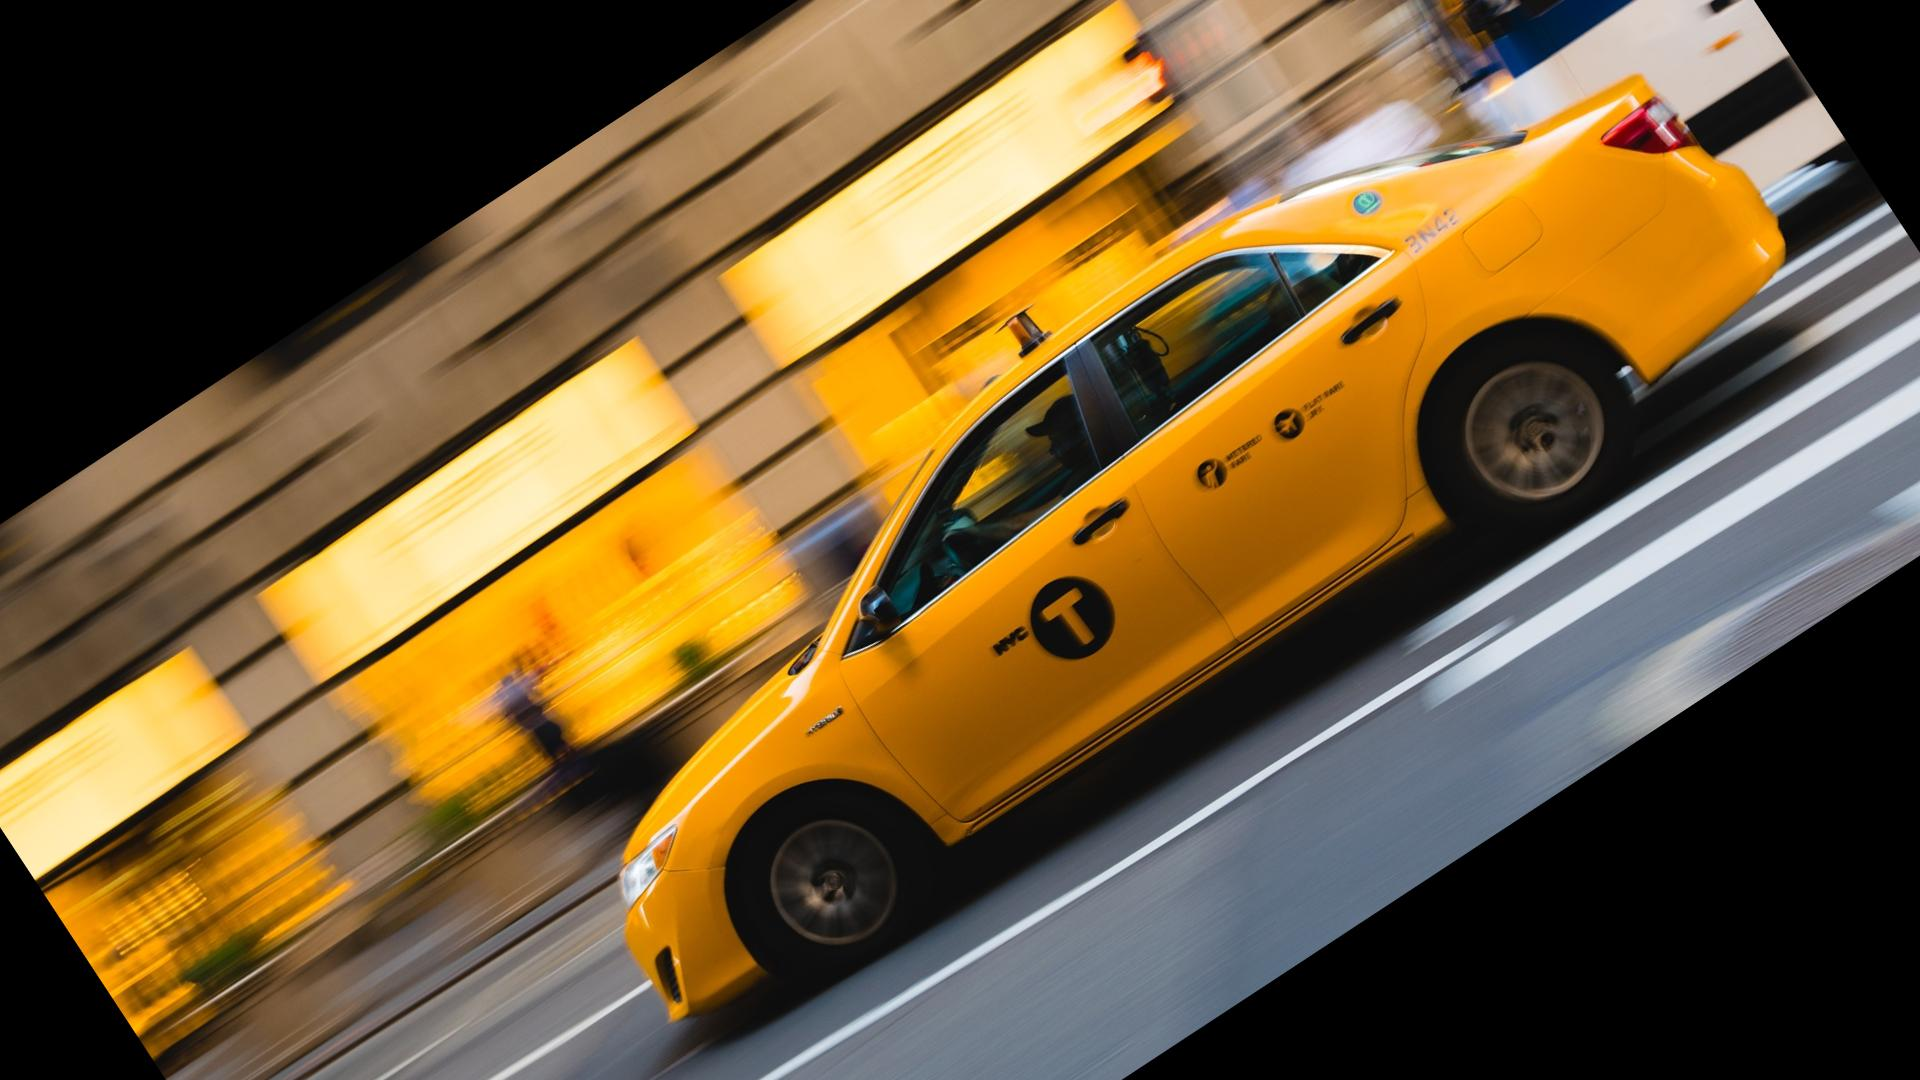taxi: (593, 59, 1791, 1064)
